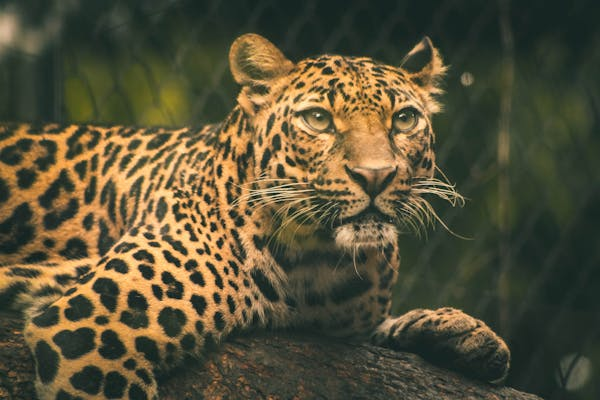Leopard: (1, 33, 509, 400)
